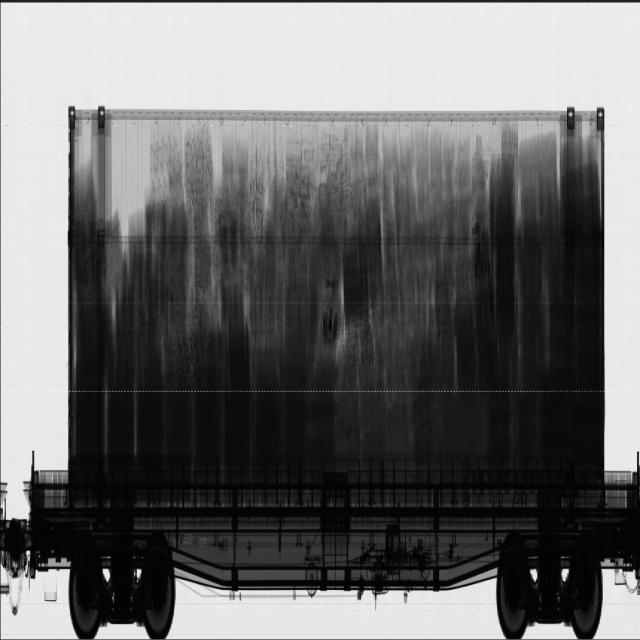clothes: (417, 132, 599, 459)
textiles: (73, 118, 522, 457)
